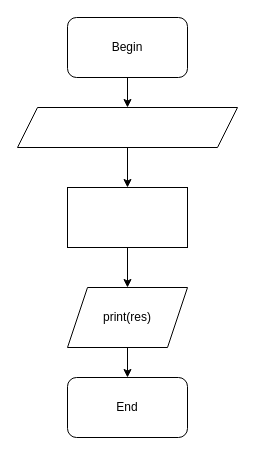
Image size: 255x455. Some labels were removed from this diagram. The shapes that lost their labels are listed below. From the top down, each one's centre as x and y in pixels, then its label:
the point at 127,127: x = int(input("Введите число A: "))
the point at 127,217: res = x > 0
